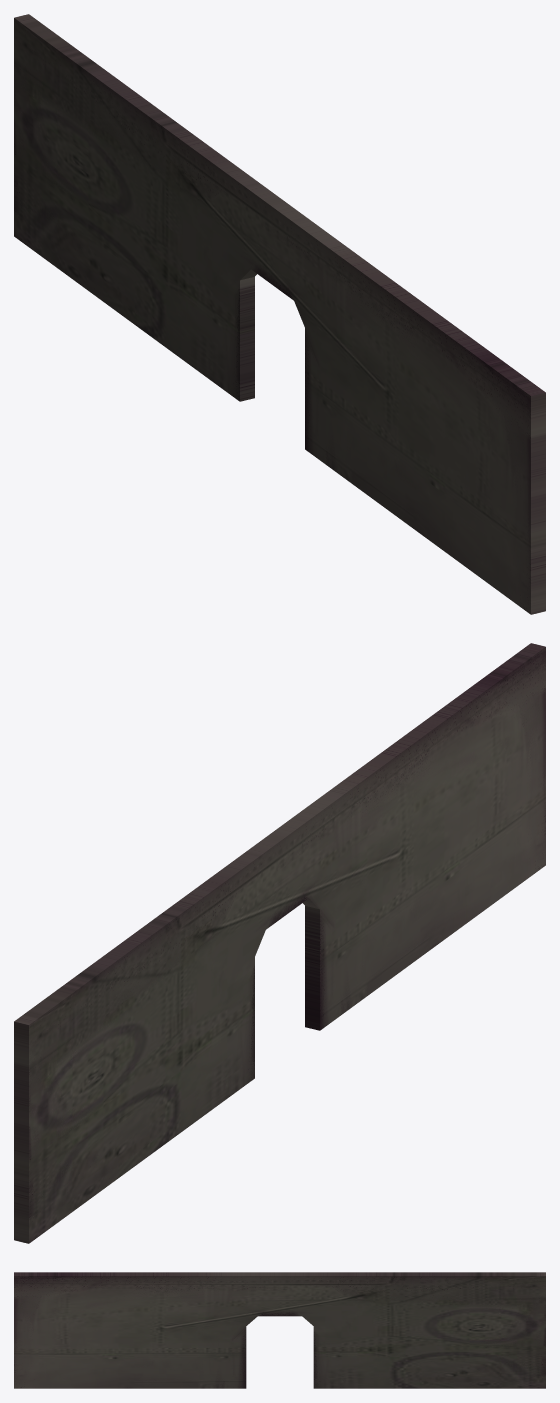
Rendered from wall_door.fbx.
3 renders of one model, top to bottom at view 1: azimuth 30°, elevation 25°; view 2: azimuth 150°, elevation 25°; view 3: azimuth 270°, elevation 25°, orthographic. The views are drawn at different scales.
Visible parts, largest first — view 1: wall_door; view 2: wall_door; view 3: wall_door.
Part boxes in pixels (bbox=[...]): wall_door: bbox=[14, 14, 545, 614]; wall_door: bbox=[14, 643, 545, 1243]; wall_door: bbox=[14, 1272, 545, 1388].
Bounding box in the file's own units: 0.25 × 3.5 × 15.
